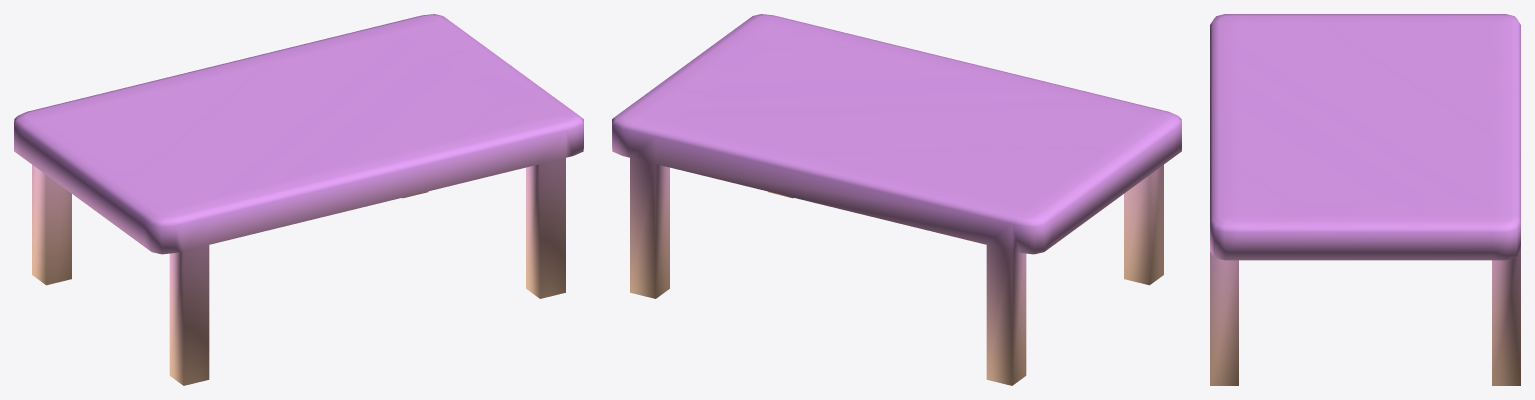
The model's file is Table.fbx.
3 renders of one model, left to right at view 1: azimuth 30°, elevation 25°; view 2: azimuth 150°, elevation 25°; view 3: azimuth 270°, elevation 25°, orthographic. The views are drawn at different scales.
Parts seen in each view (by area): view 1: Table; view 2: Table; view 3: Table.
Part boxes in pixels (x1,y1,x2,y2): Table: (14, 14, 583, 385); Table: (612, 14, 1181, 385); Table: (1210, 14, 1520, 385).
Bounding box in the file's own units: 206 × 76.1 × 125.
